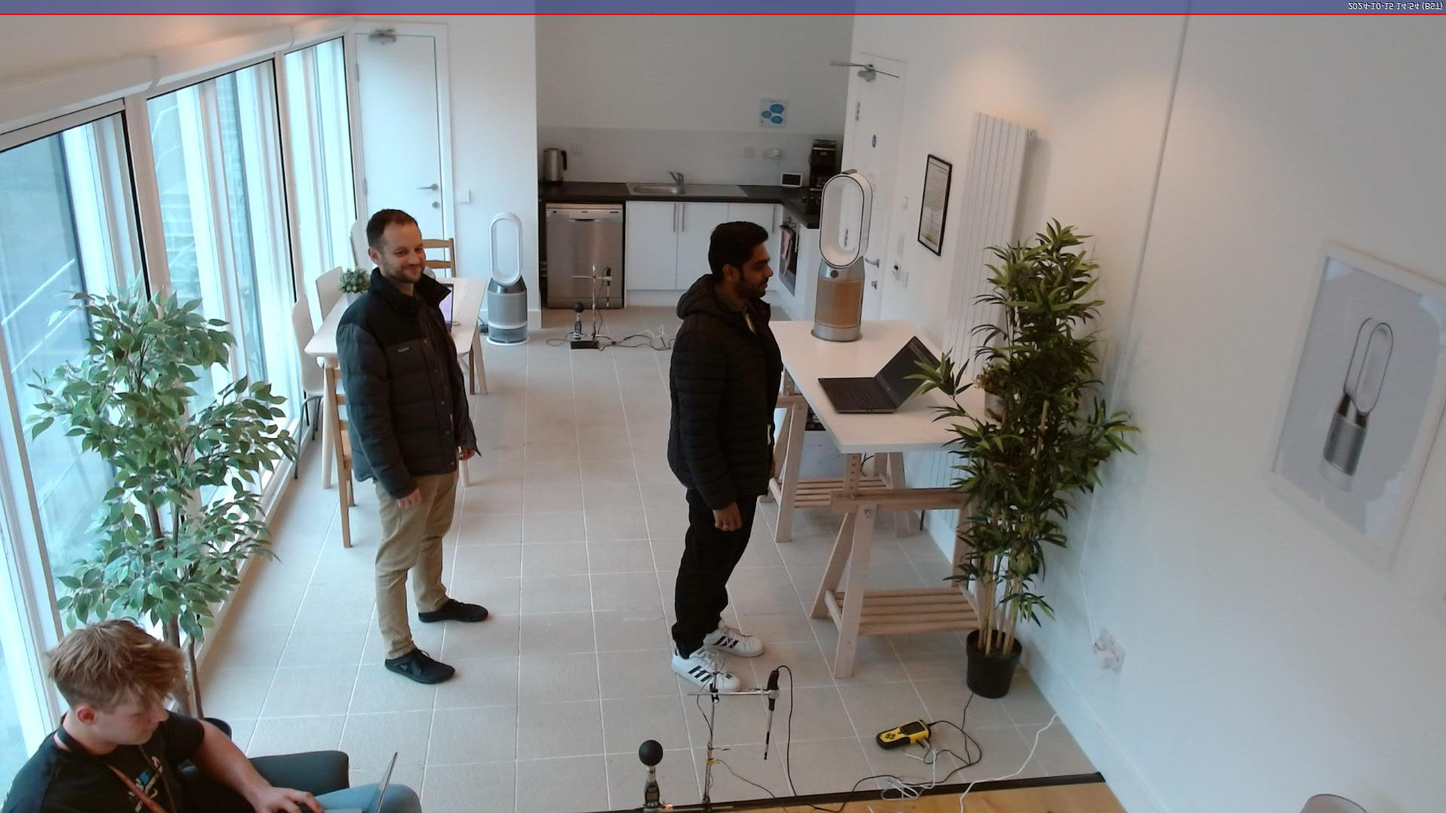coat: (333, 268, 482, 494), (661, 271, 784, 512)
short sleeve shirt: (0, 702, 204, 813)
trousers: (372, 465, 461, 657), (668, 486, 761, 652), (291, 778, 425, 813)
